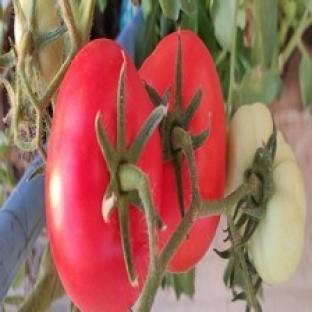Tomato: (45, 39, 153, 311), (140, 31, 225, 199), (248, 133, 306, 284)
